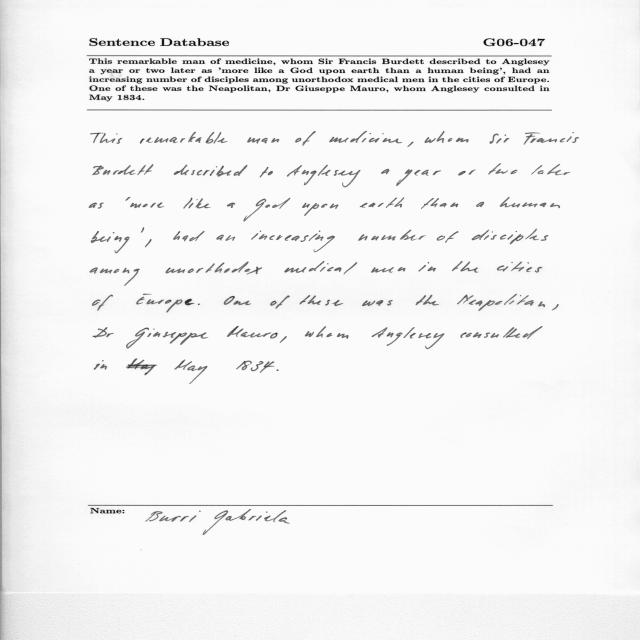word: (252, 231, 335, 252), (126, 328, 208, 349), (287, 165, 361, 188), (372, 327, 445, 349), (457, 294, 545, 311), (166, 262, 263, 275), (472, 229, 548, 245), (244, 198, 291, 222), (137, 294, 195, 313), (461, 326, 543, 339), (140, 132, 227, 144), (285, 261, 358, 275), (90, 268, 140, 286), (329, 131, 402, 143), (174, 165, 247, 177), (92, 231, 130, 253), (175, 360, 208, 385), (396, 169, 441, 186), (358, 230, 426, 241), (524, 132, 579, 145), (227, 326, 278, 339), (93, 164, 153, 175), (500, 197, 560, 208), (305, 326, 348, 339), (425, 131, 469, 143), (126, 359, 157, 375), (497, 262, 542, 273), (360, 197, 404, 208), (302, 203, 339, 216), (300, 295, 343, 306), (237, 361, 275, 373), (531, 164, 570, 175), (421, 198, 458, 209), (91, 133, 123, 144), (93, 294, 113, 311), (173, 231, 205, 241), (489, 164, 518, 175), (295, 131, 316, 146), (452, 261, 478, 273), (183, 198, 211, 209), (270, 295, 290, 309), (437, 231, 458, 243), (224, 296, 251, 305), (93, 327, 114, 338), (416, 295, 439, 305), (490, 133, 510, 144), (371, 267, 406, 273), (130, 203, 164, 209), (247, 138, 279, 144), (362, 300, 393, 306), (419, 262, 436, 272), (260, 167, 273, 177), (94, 360, 107, 370), (216, 235, 235, 241), (458, 170, 476, 176), (89, 203, 104, 209), (280, 336, 287, 343), (145, 239, 151, 247), (381, 169, 390, 174), (552, 304, 559, 310), (227, 203, 235, 208), (476, 202, 484, 207), (408, 142, 414, 147), (126, 197, 131, 201), (141, 228, 144, 233), (277, 369, 279, 371), (198, 304, 200, 305)
